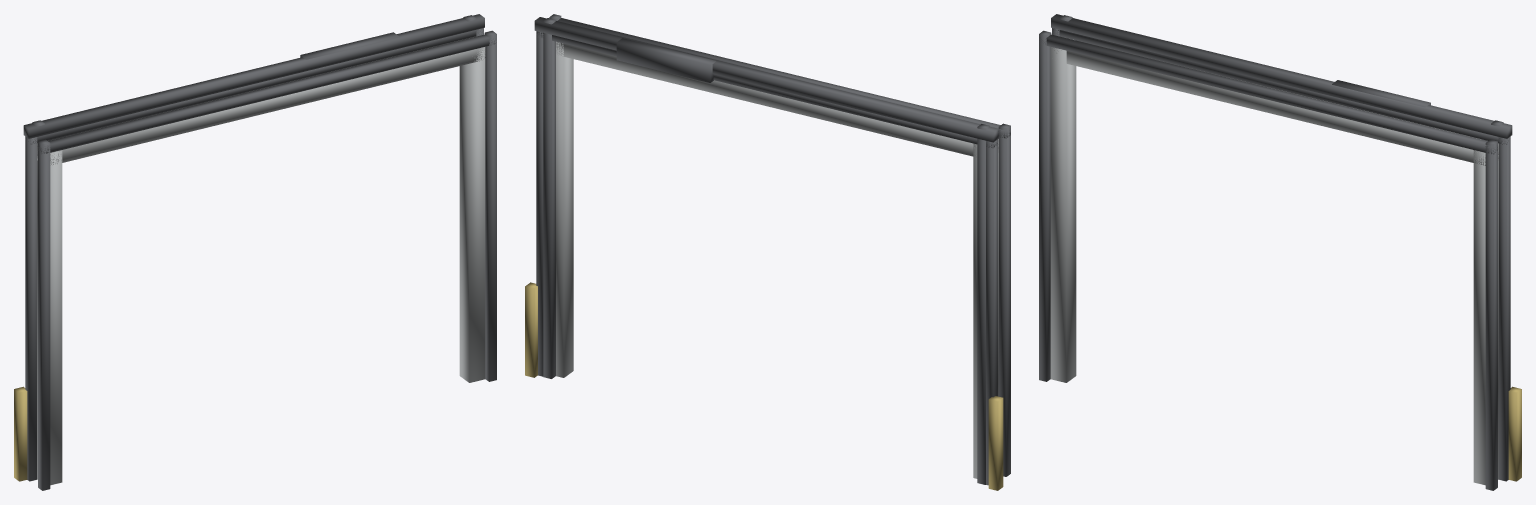
Rendered from bay_opening_loading_bay_w480_h360_d20.glb.
3 renders of one model, left to right at view 1: azimuth 30°, elevation 25°; view 2: azimuth 150°, elevation 25°; view 3: azimuth 330°, elevation 25°, orthographic.
Parts seen in each view (by area): view 1: world; view 2: world; view 3: world.
Boxes of the visible parts, x1,y1,x2,y2 form: world: (14, 14, 496, 490); world: (525, 14, 1010, 490); world: (1039, 14, 1521, 490).
Size of the model in its own units: 5.54 by 3.99 by 0.422.
